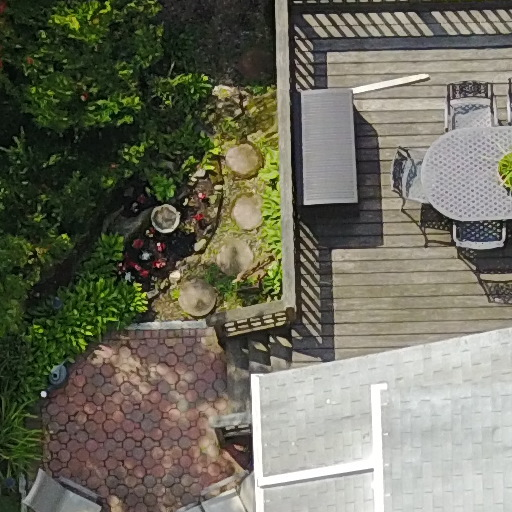flower pot: (141, 199, 188, 240)
porch: (203, 6, 507, 457)
